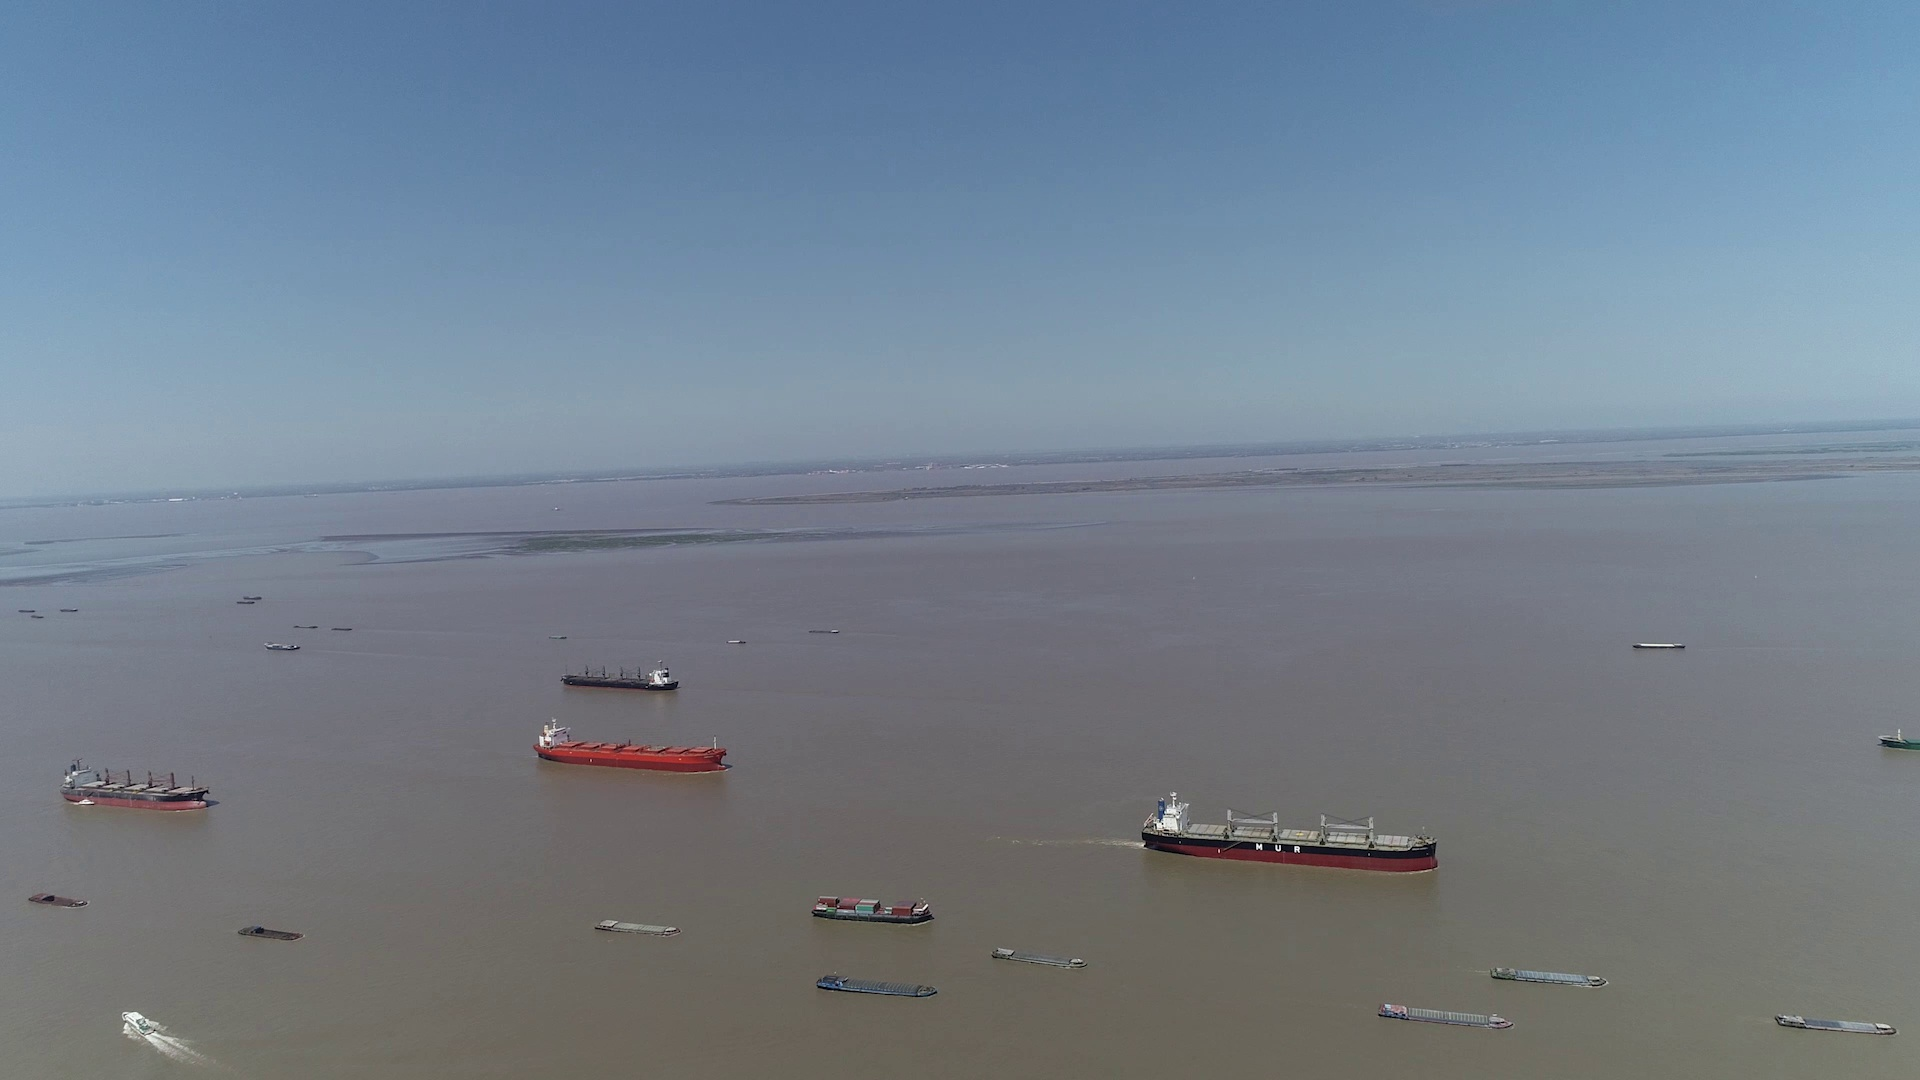ship: (1139, 790, 1437, 872), (534, 719, 727, 771), (59, 764, 211, 812), (1375, 1004, 1513, 1030), (560, 661, 679, 691), (811, 895, 934, 924), (814, 975, 938, 998), (1774, 1011, 1898, 1034), (1491, 967, 1604, 988), (990, 945, 1087, 968), (592, 918, 682, 935), (120, 1011, 166, 1040), (237, 926, 305, 942), (26, 891, 87, 907), (1879, 731, 1920, 752), (1630, 641, 1687, 649), (265, 640, 301, 651)
